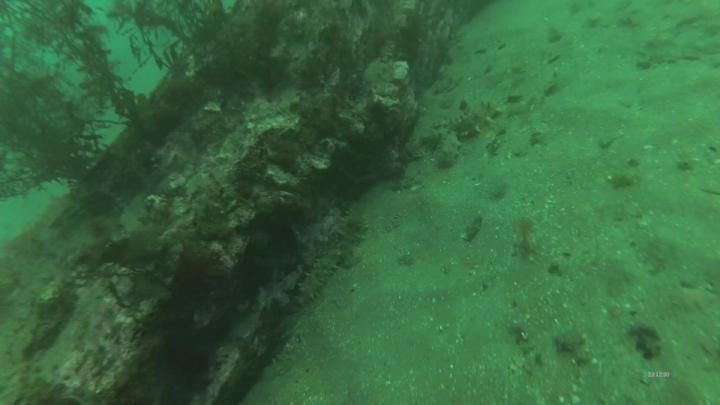holothurian: (425, 96, 505, 146), (328, 202, 370, 271), (293, 247, 342, 303), (434, 129, 460, 168)
waterweeds: (1, 1, 244, 199)
